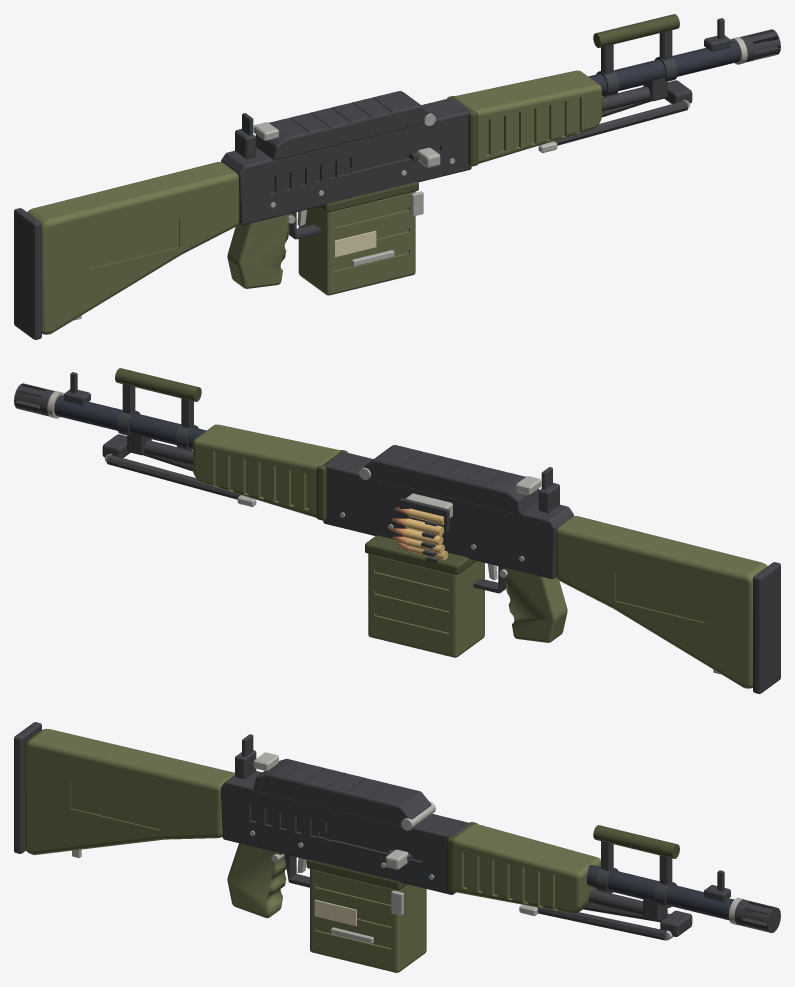
The model's file is lmg.glb.
The picture shows the model from 3 angles, top to bottom: view 1: azimuth 30°, elevation 25°; view 2: azimuth 150°, elevation 25°; view 3: azimuth 330°, elevation 25°; orthographic projection.
Parts seen in each view (by area): view 1: gun_frame, gun_mag; view 2: gun_frame, gun_mag; view 3: gun_frame, gun_mag.
Part boxes in pixels (<box>): gun_frame: <box>14,14,780,339</box>; gun_mag: <box>298,182,423,295</box>; gun_frame: <box>14,368,780,693</box>; gun_mag: <box>365,507,484,657</box>; gun_frame: <box>14,722,780,940</box>; gun_mag: <box>306,859,426,972</box>.
Size of the model in its own units: 1.09 by 0.266 by 0.12.
